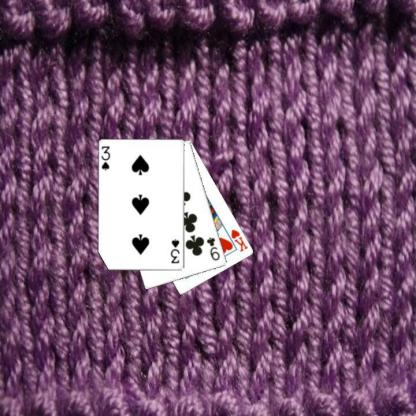3S: (169, 237, 181, 265), (100, 144, 112, 171)
9C: (204, 234, 221, 262)
KH: (229, 227, 249, 253)
